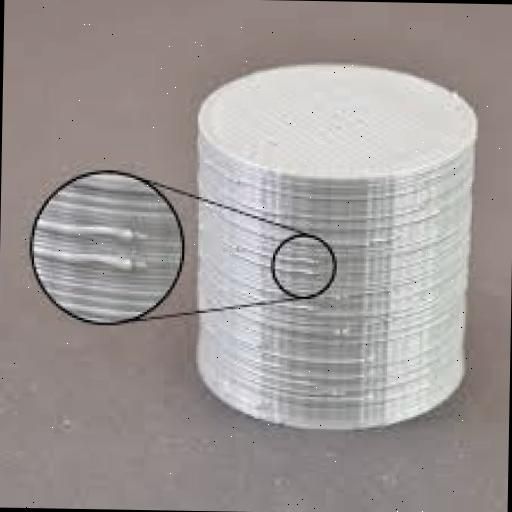blobs: (273, 244, 332, 294), (312, 373, 375, 412)
